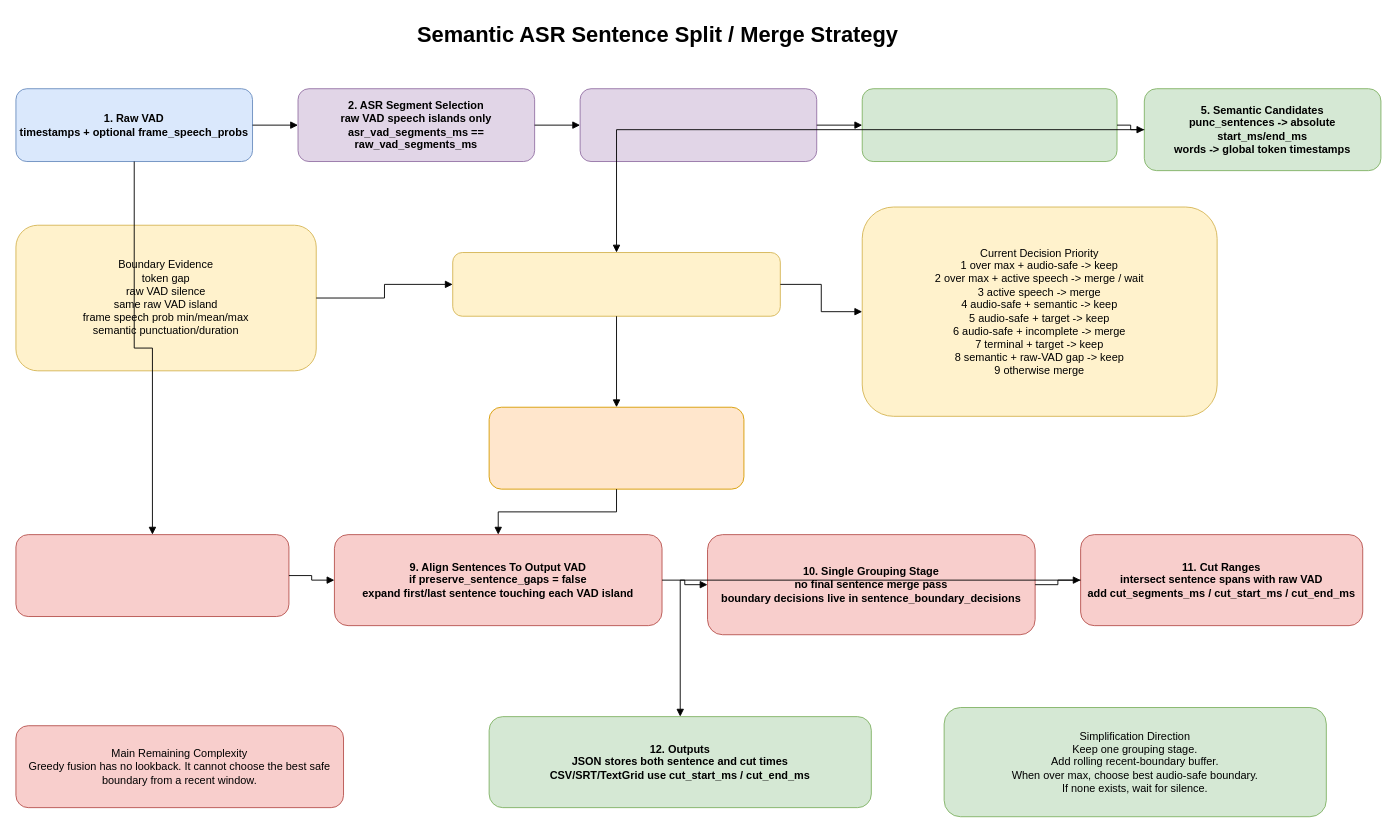
Image size: 1397x833. Some labels were removed from this diagram. The centre of each missing label's shape, as x and y in pixels:
3. ASR + Timestamp Provider text + token timestamps: (x=698, y=125)
4. Punctuation Strategy ASR-native / ASR-text / external punc: (x=989, y=125)
6. Boundary Fusion greedy left-to-right grouping: (x=616, y=284)
7. Fused Sentences start_ms / end_ms + sentence_boundary_decisions: (x=616, y=447)
8. Output VAD Formatting merge close raw VAD gaps pad left/right: (x=152, y=575)
